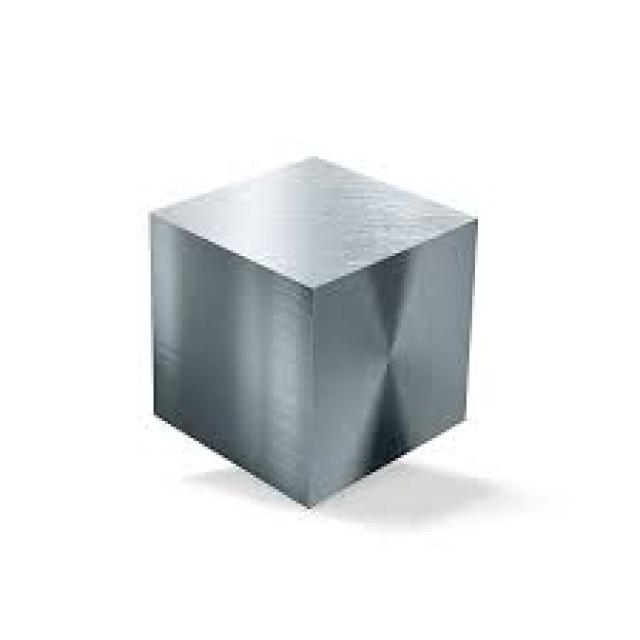Milling: (108, 114, 513, 535)
